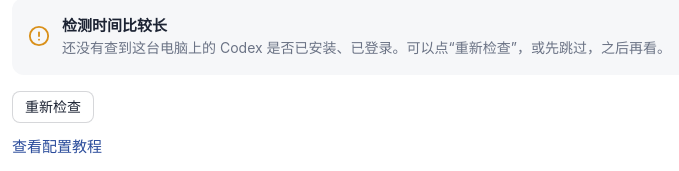
Test: gives an answer and a recheck button when checking takes too long
Expected: the text "检测时间比较长" is shown, [62, 16, 167, 35]
What coordinates should you click on to do the following:
click the button "重新检查"
I would click on:
 (53, 107)
Its box is [12, 91, 94, 123].
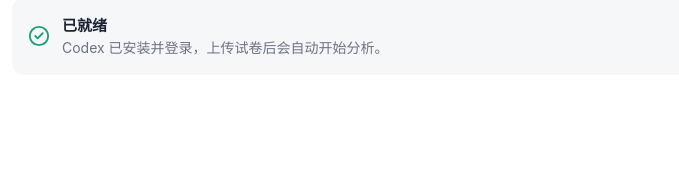
Expected: the text "已就绪" is shown, [62, 16, 107, 35]
